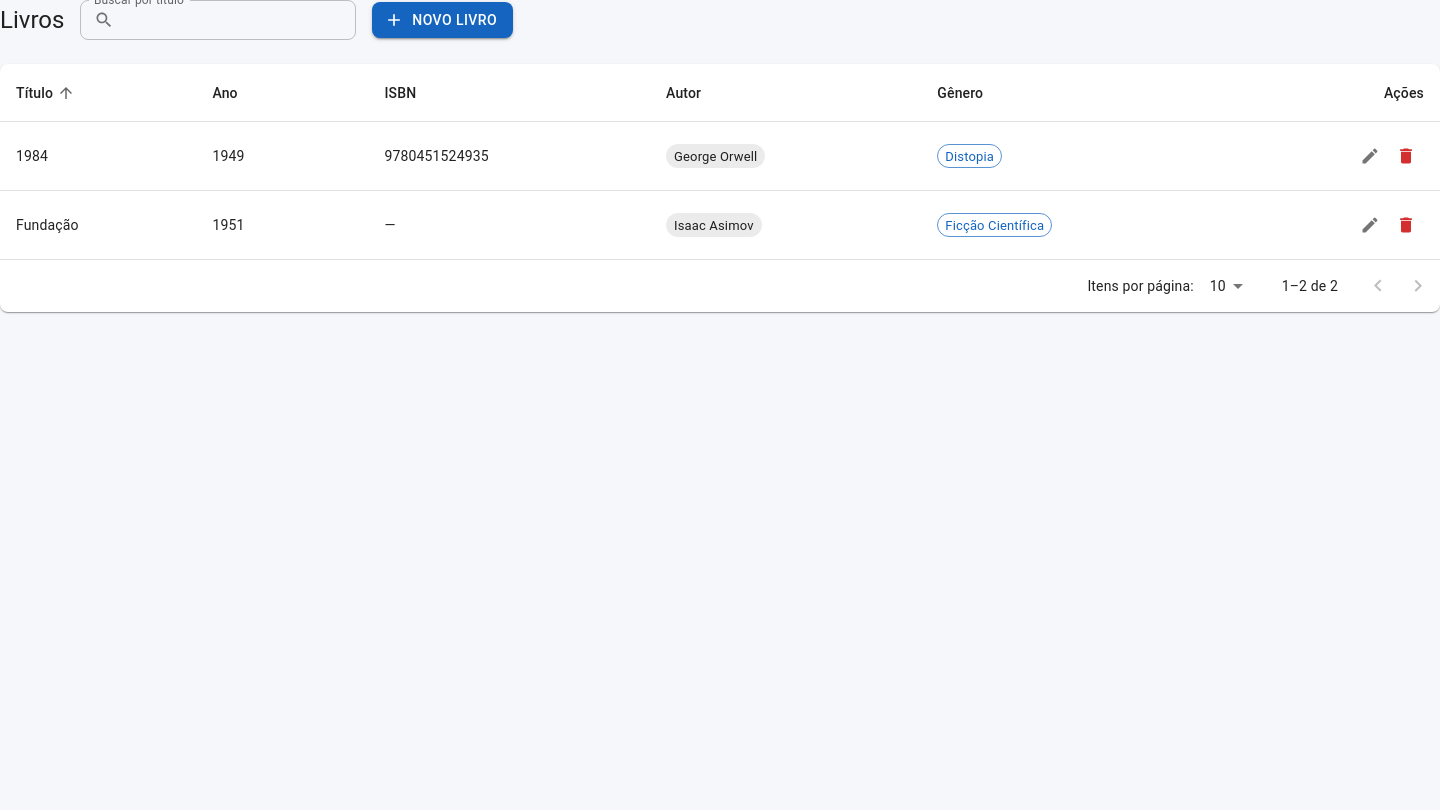
BooksPage › deleting a book › shows the server message when the deletion is refused
The image size is (1440, 810).
Click the button named "Excluir 1984": (1406, 156) [1388,138,1424,174]
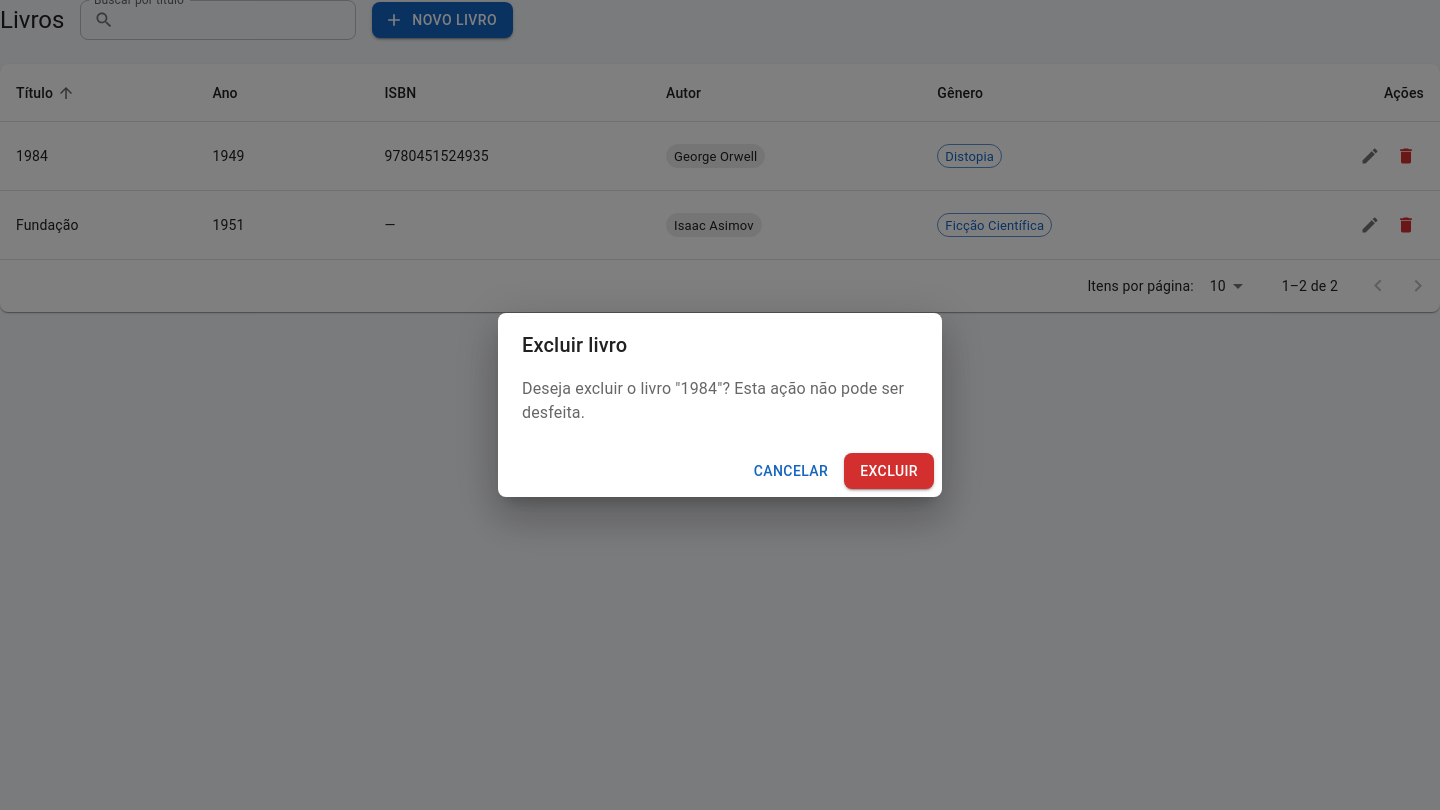
Click the button "Excluir": (889, 471) [844,453,934,489]
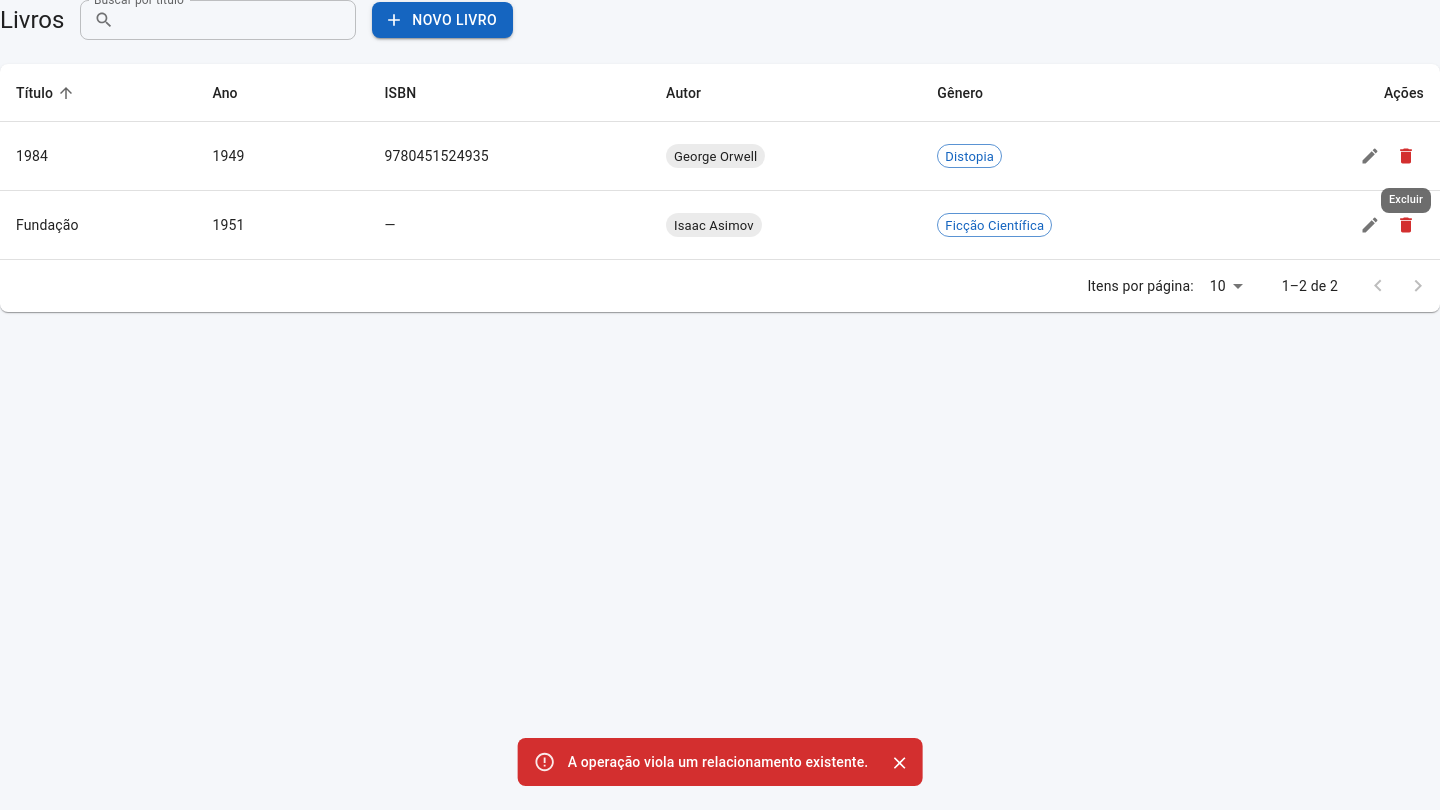
Expected: the text "A operação viola um relacionamento existente." is shown, [568,754,868,770]
